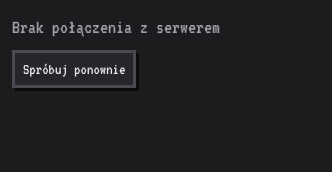
Test: AssetPalette › shows an error with a retry button when the backend is down
Expected: the text "Brak połączenia z serwerem" is shown, [12,12,220,42]
Step 1. Click the button "Spróbuj ponownie" → {"x": 74, "y": 69}, box [12,50,136,88]
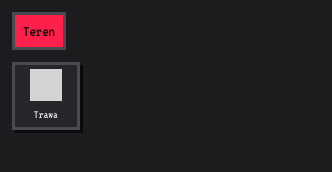
Expected: the button "Trawa" is shown, [12,62,80,130]
